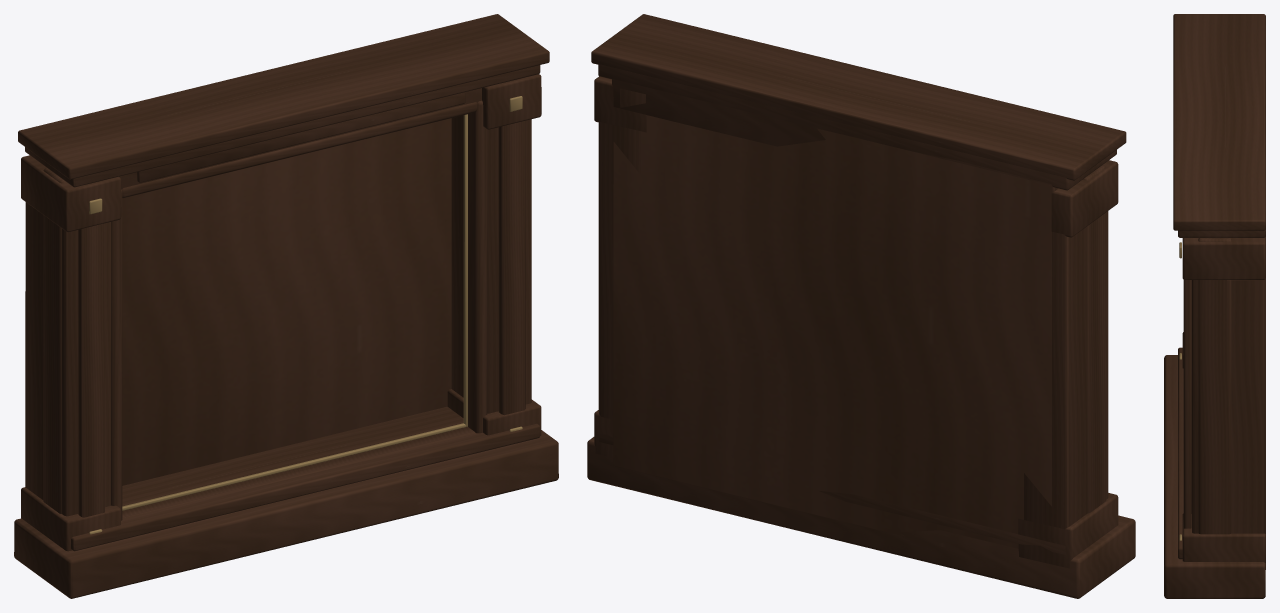
File: shadow_crest_housing.glb
3 renders of one model, left to right at view 1: azimuth 30°, elevation 25°; view 2: azimuth 150°, elevation 25°; view 3: azimuth 270°, elevation 25°, orthographic. The views are drawn at different scales.
Parts seen in each view (by area): view 1: Shadow_Crest_Static_Housing; view 2: Shadow_Crest_Static_Housing; view 3: Shadow_Crest_Static_Housing.
Part boxes in pixels (left/top/right/bottom): Shadow_Crest_Static_Housing: left=14, top=14, right=558, bottom=598; Shadow_Crest_Static_Housing: left=587, top=14, right=1135, bottom=598; Shadow_Crest_Static_Housing: left=1164, top=14, right=1265, bottom=598.
Size of the model in its own units: 1.08 by 0.8998 by 0.2199.
2 materials, 1 textured.
